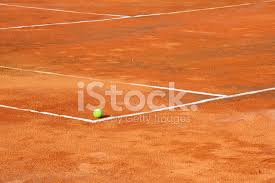tennis_ball: (92, 108, 102, 119)
